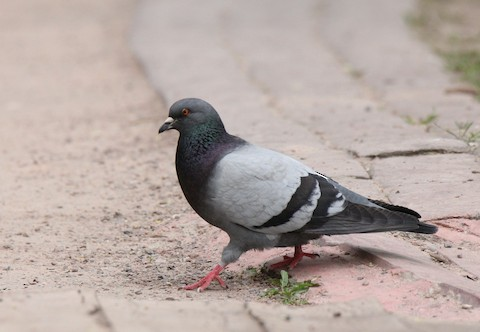pigeon: (154, 95, 444, 294)
